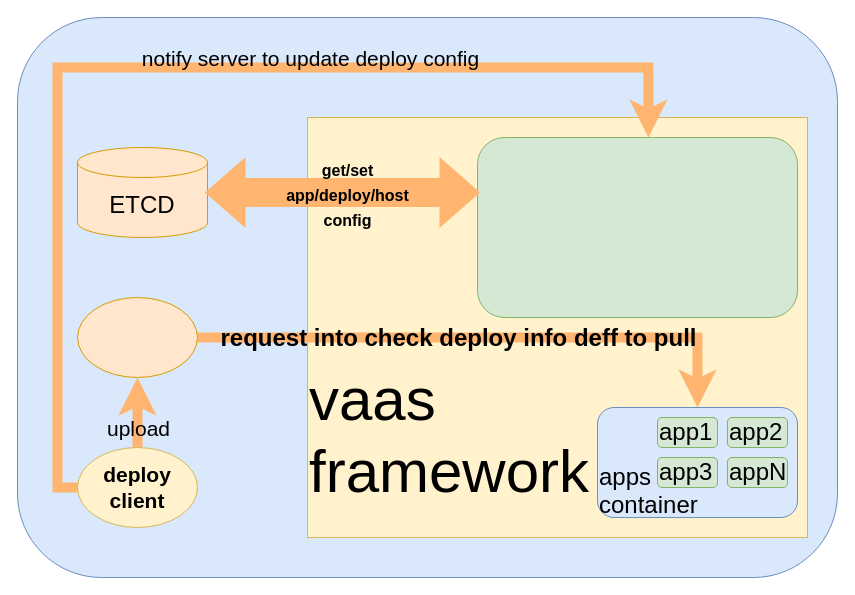
Some shapes in this 855 by 595 pixel diagram are drawn without their labels. Each missing label, with the centre of its shape:
"App platform" goes at (637,227).
"s3/monio" goes at (137,337).
